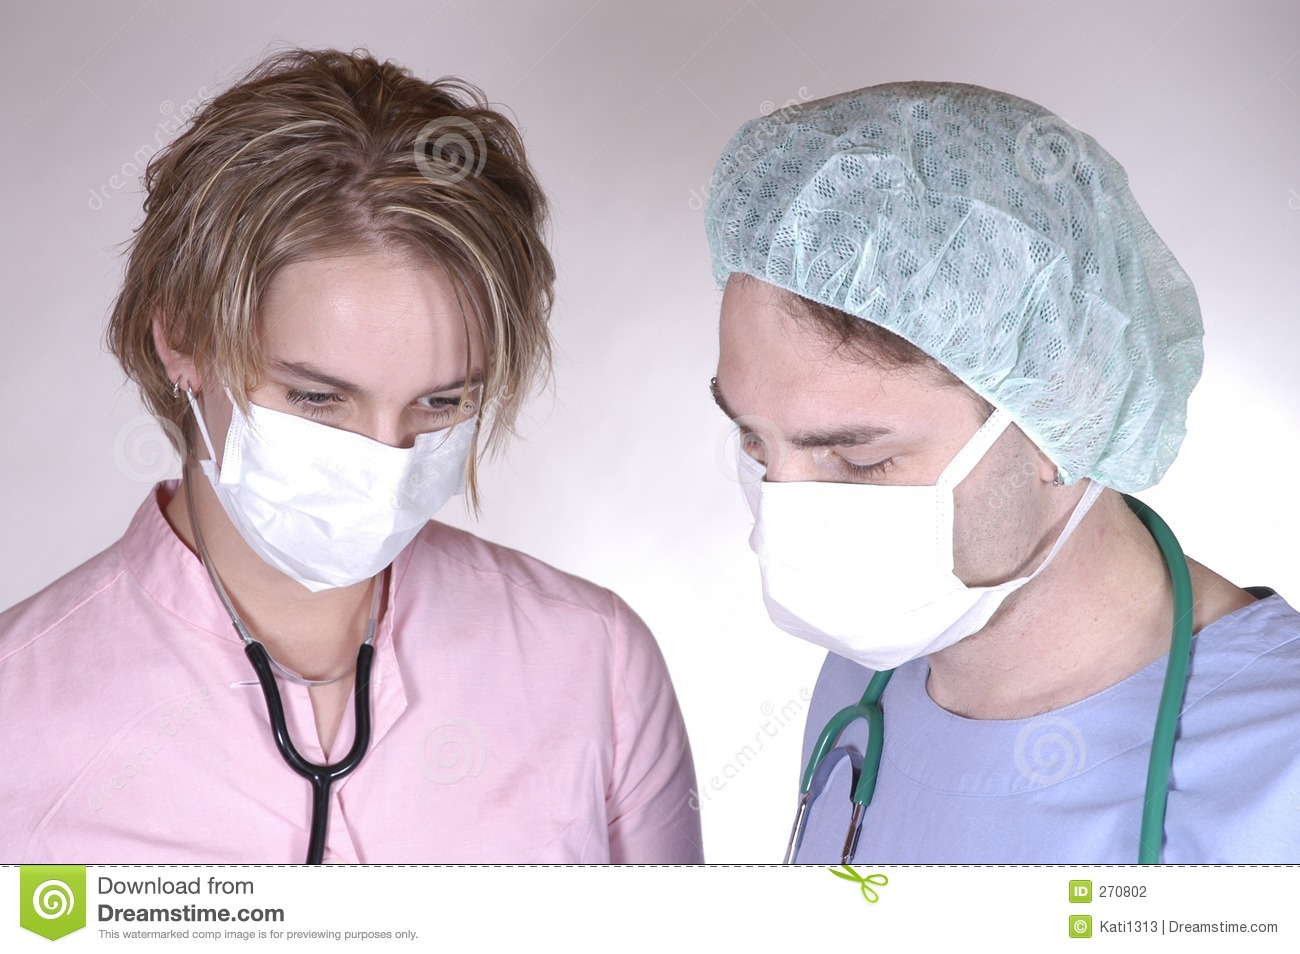mask: (729, 443, 1014, 675), (226, 399, 475, 605)
